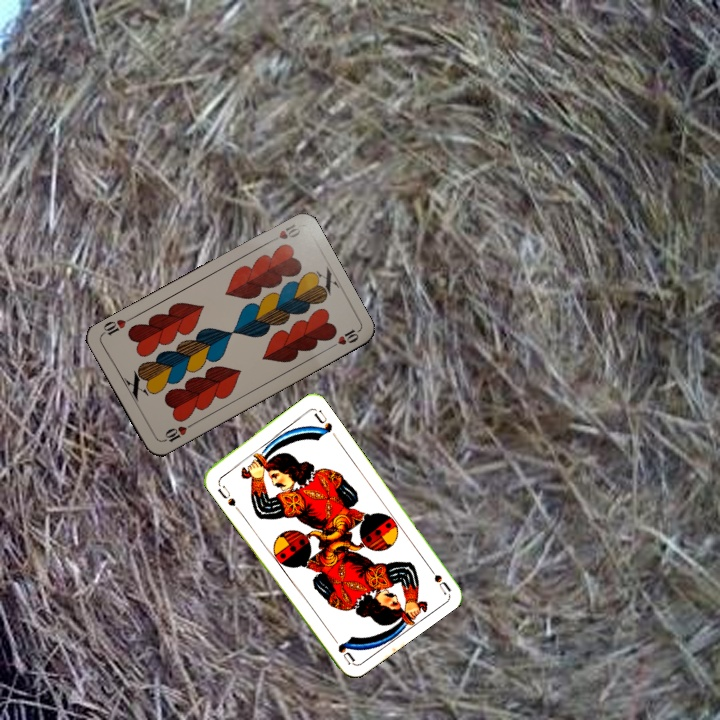H10: (264, 219, 303, 246), (158, 419, 196, 445)
SU: (422, 559, 453, 596), (213, 477, 238, 509)
